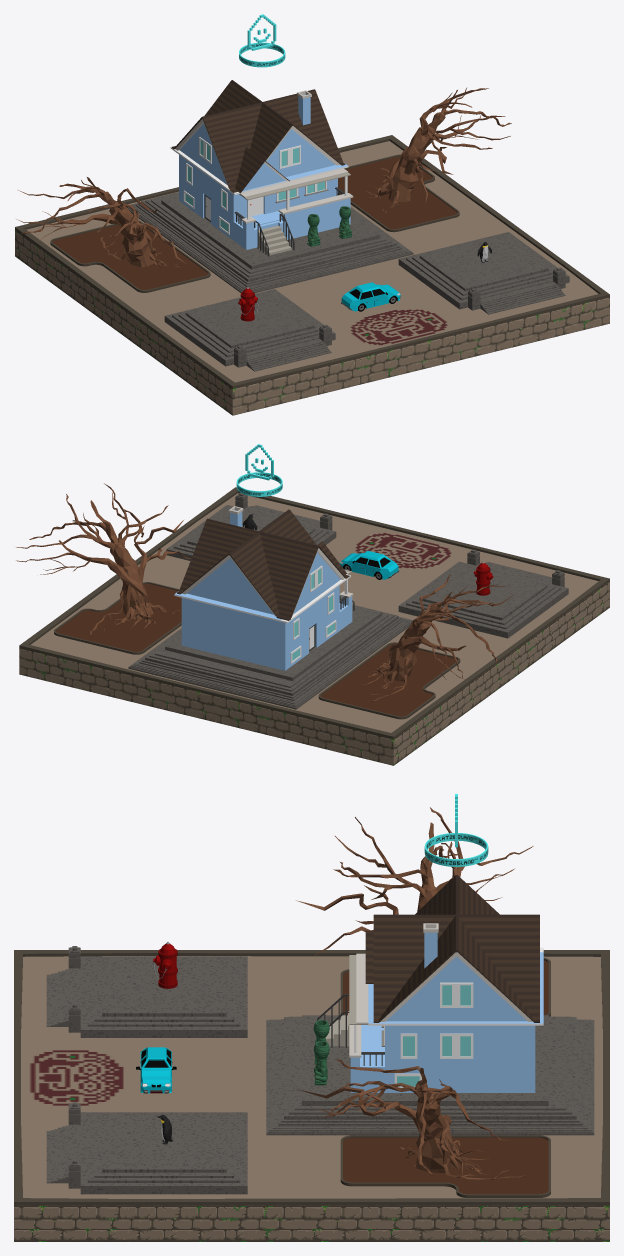
3 renders of one model, top to bottom at view 1: azimuth 30°, elevation 25°; view 2: azimuth 150°, elevation 25°; view 3: azimuth 270°, elevation 25°, orthographic. The views are drawn at different scales.
Visible parts, largest first — view 1: Cube.011, Cube.1594, VEHICLES_CAR, TYPE_PREMIUM; view 2: Cube.011, Cube.1594, VEHICLES_CAR, TYPE_PREMIUM, OBJRANDOM_FIRE_HYDRANT; view 3: Cube.011, Cube.1594, VEHICLES_CAR, TYPE_PREMIUM, OBJRANDOM_FIRE_HYDRANT.
Part boxes in pixels (<box>): Cube.011: <box>15,87,609,415</box>; Cube.1594: <box>170,80,353,256</box>; VEHICLES_CAR: <box>341,282,400,311</box>; TYPE_PREMIUM: <box>239,14,285,67</box>; Cube.011: <box>16,483,609,765</box>; Cube.1594: <box>174,506,354,670</box>; VEHICLES_CAR: <box>339,551,399,579</box>; TYPE_PREMIUM: <box>236,444,282,496</box>; OBJRANDOM_FIRE_HYDRANT: <box>473,561,493,595</box>; Cube.011: <box>14,807,609,1241</box>; Cube.1594: <box>317,875,543,1092</box>; VEHICLES_CAR: <box>136,1047,176,1093</box>; TYPE_PREMIUM: <box>424,794,488,866</box>; OBJRANDOM_FIRE_HYDRANT: <box>153,942,177,988</box>.
Size of the model in its own units: 5099 by 2475 by 4000.
37 materials, 6 textured.
